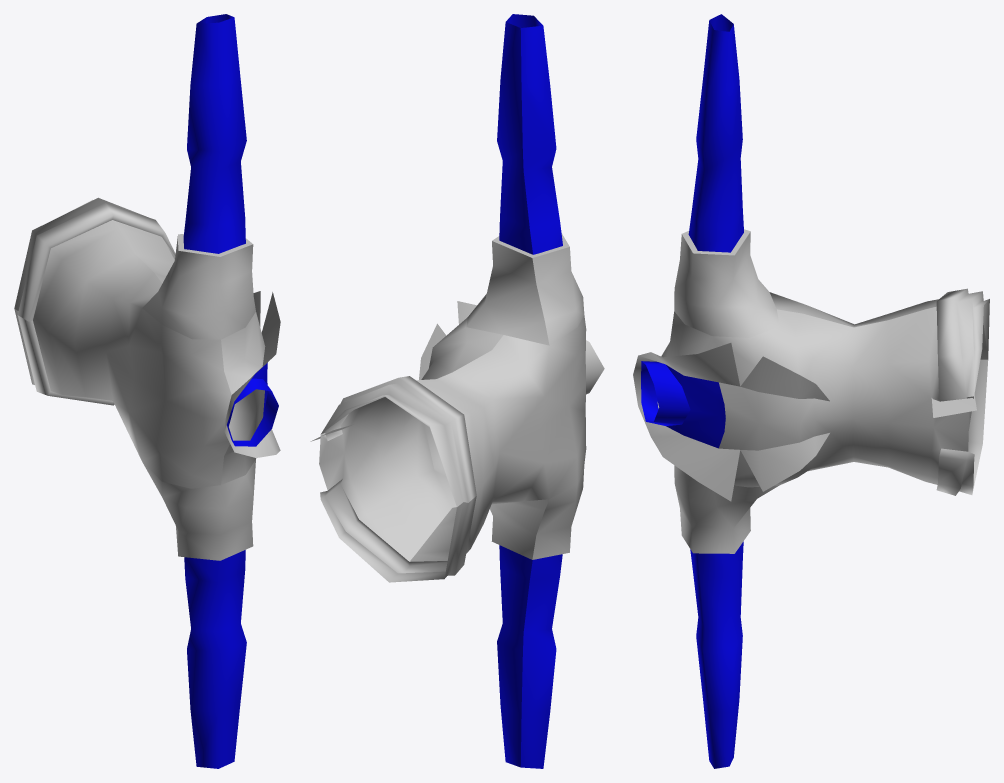
3 views of the same model, side by side, from view 1: azimuth 30°, elevation 25°; view 2: azimuth 150°, elevation 25°; view 3: azimuth 270°, elevation 25° (orthographic).
Parts seen in each view (by area): view 1: ka_topbody_001_re; view 2: ka_topbody_001_re; view 3: ka_topbody_001_re.
Part boxes in pixels (x1,y1,x2,y2): ka_topbody_001_re: [14, 14, 280, 768]; ka_topbody_001_re: [310, 14, 604, 768]; ka_topbody_001_re: [633, 14, 989, 768].
Size of the model in its own units: 32.9 by 149 by 65.08.
